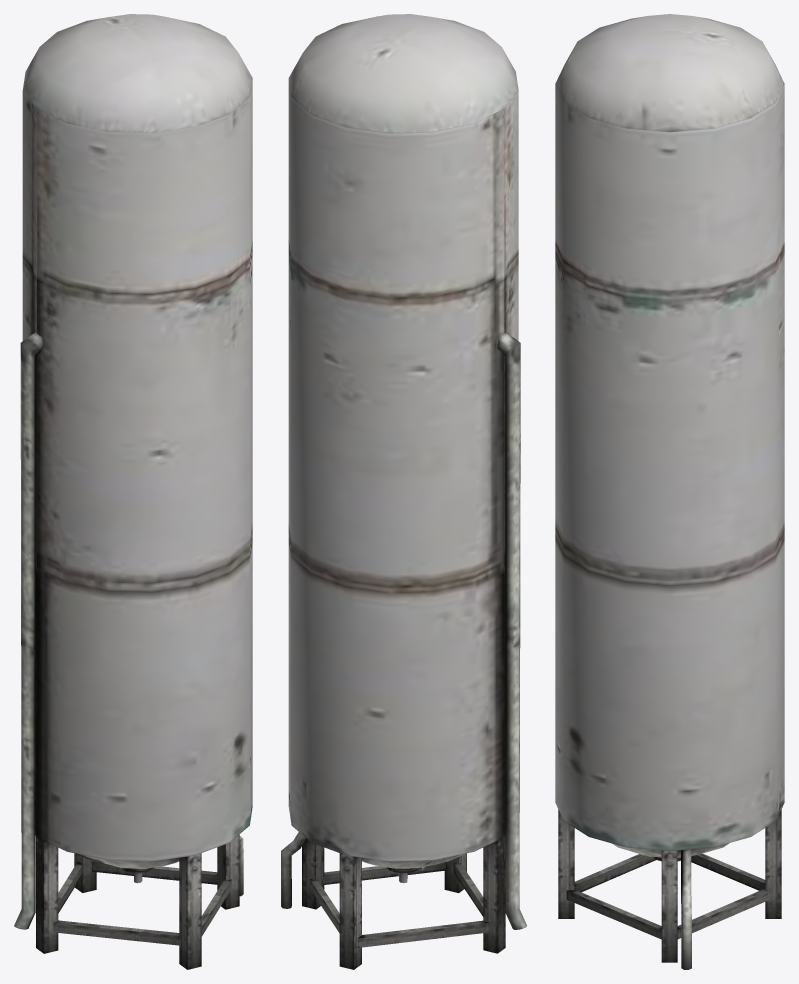
The model's file is coolingtank02.glb.
3 views of the same model, side by side, from view 1: azimuth 30°, elevation 25°; view 2: azimuth 150°, elevation 25°; view 3: azimuth 270°, elevation 25° (orthographic).
Parts seen in each view (by area): view 1: 0_coolingtank02; view 2: 0_coolingtank02; view 3: 0_coolingtank02.
Boxes of the visible parts, x1,y1,x2,y2 form: 0_coolingtank02: (14, 14, 252, 969); 0_coolingtank02: (281, 14, 526, 969); 0_coolingtank02: (555, 14, 784, 969).
Size of the model in its own units: 2.86 by 10.37 by 2.44.
Materials: 1 (1 with a texture image).
